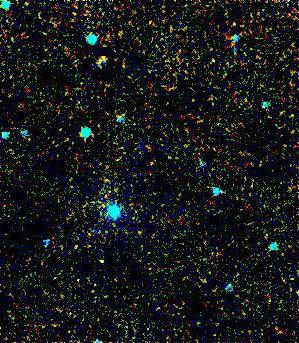star: (88, 246, 118, 276)
